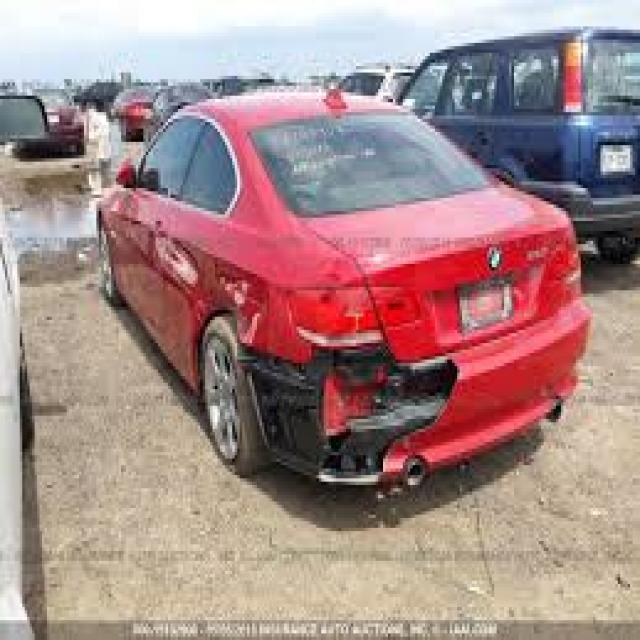moderate: (239, 334, 471, 484)
